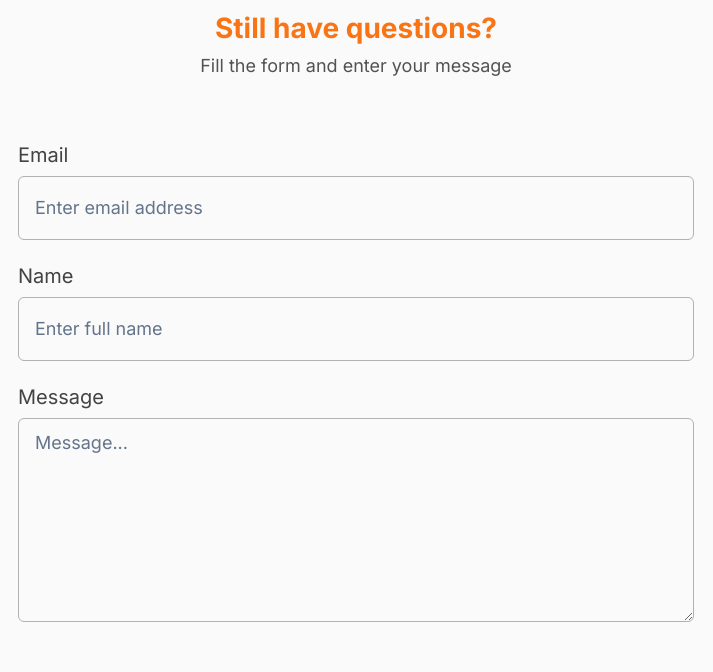
additionalQuestionsForm Tests › should display error message for invalid email
In the field labelled "Email": (356, 208) [18,176,694,240], type "invalid-email"
(page scrolled)
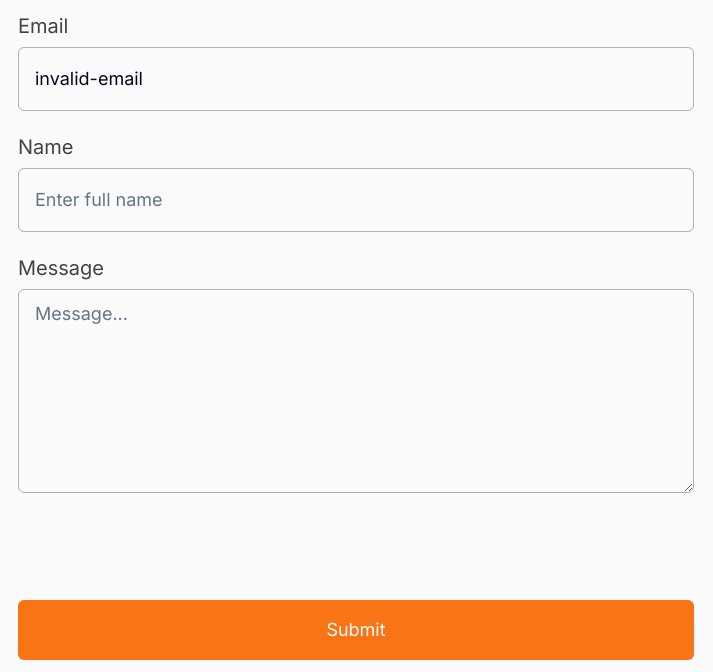
Click the button "Submit": (356, 630) [18,600,694,660]
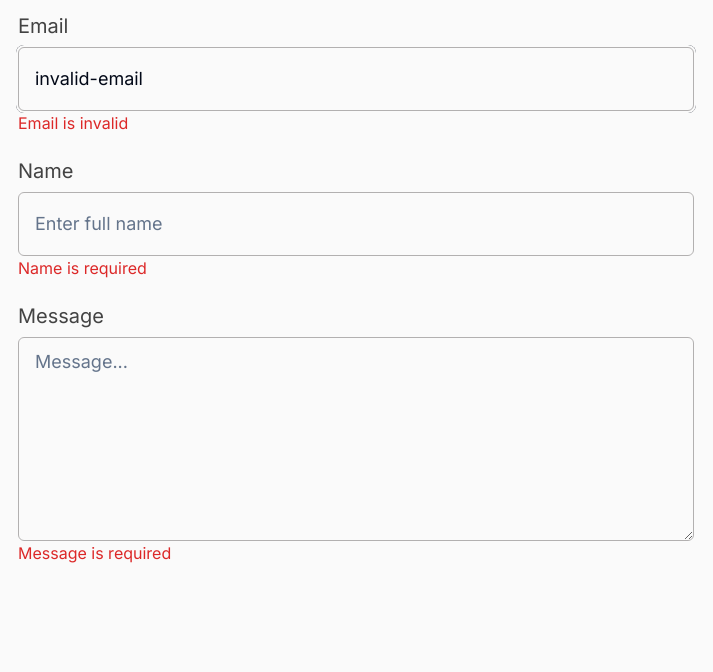
Expected: the text "Email is invalid" is shown, [18,113,128,133]
